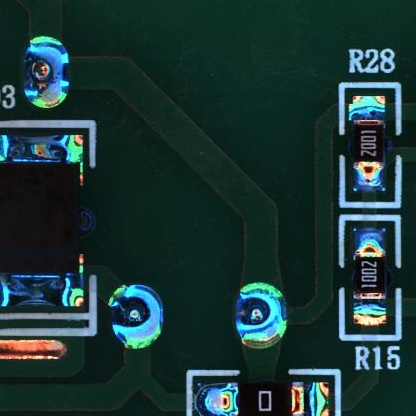spot: (230, 280, 289, 351), (19, 35, 72, 113), (108, 282, 166, 349)
